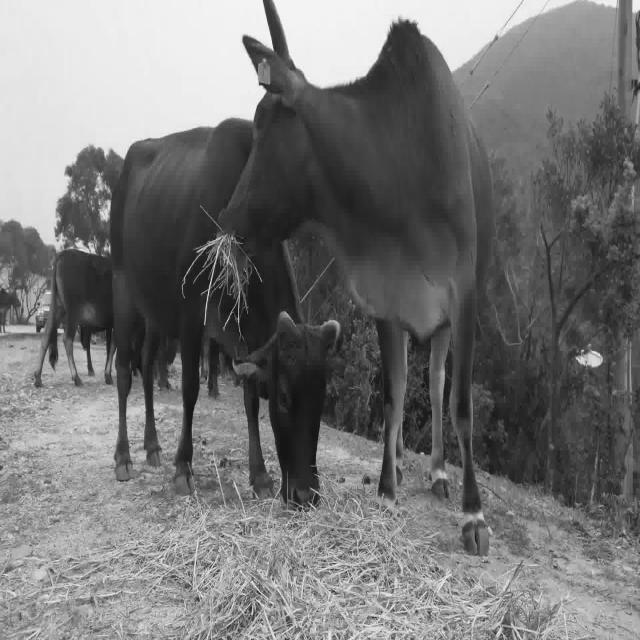cow: (219, 0, 492, 554), (111, 105, 339, 505)
